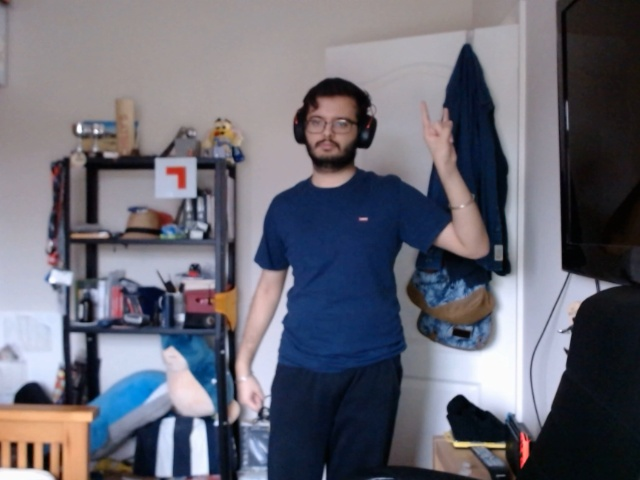Rock on: (408, 97, 475, 172)
